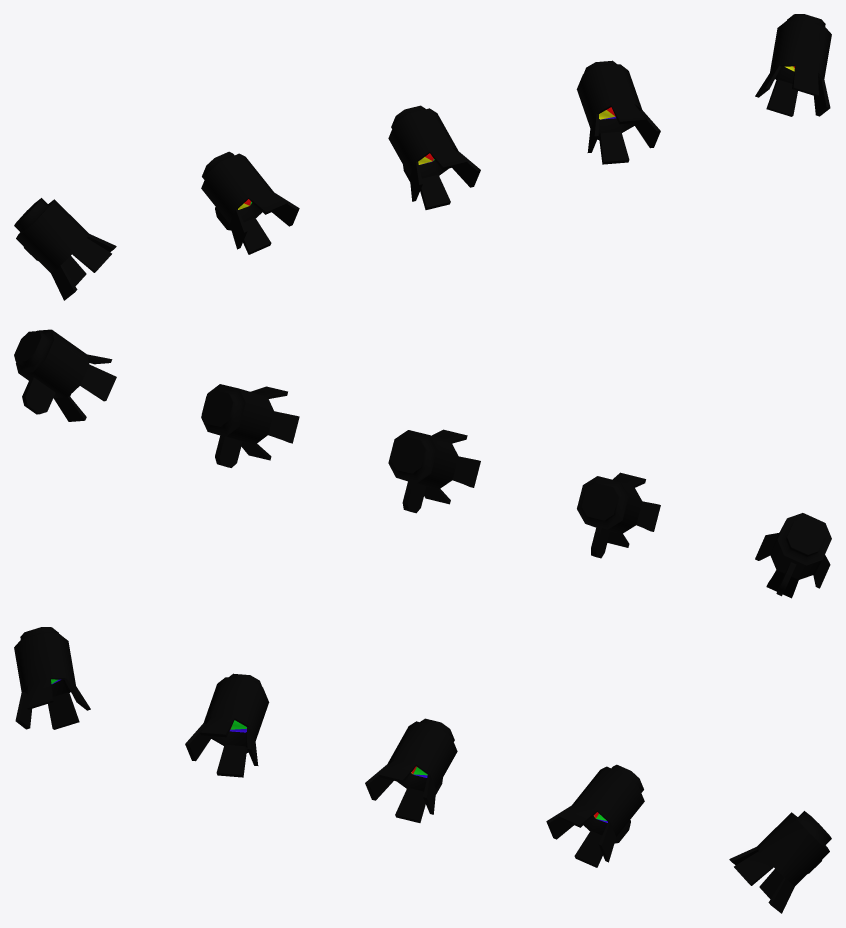
The model's file is 26b1c5ee-bff0-4a03-a158-1a1d907a7ef2.glb.
The picture shows the model from 3 angles, top to bottom: view 1: azimuth 30°, elevation 25°; view 2: azimuth 150°, elevation 25°; view 3: azimuth 330°, elevation 25°; orthographic projection.
Visible parts, largest first — view 1: LightingArraySpotlightsColored; view 2: LightingArraySpotlightsColored; view 3: LightingArraySpotlightsColored.
Boxes of the visible parts, <box> form: LightingArraySpotlightsColored: <box>14,14,831,300</box>; LightingArraySpotlightsColored: <box>14,329,831,598</box>; LightingArraySpotlightsColored: <box>14,627,831,913</box>.
Size of what is drawn, in the model's own units: 13.19 by 1.44 by 1.53.
Materials: 1 (1 with a texture image).
